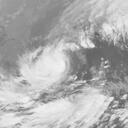cyclone: (16, 43, 72, 95)
